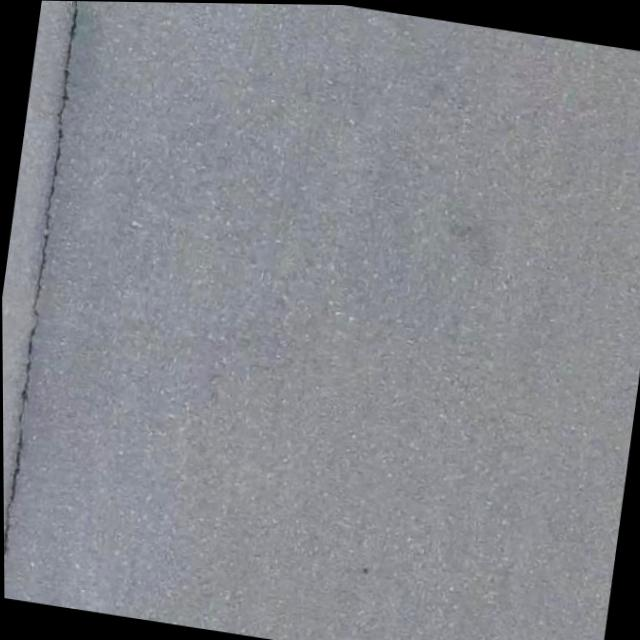Crack: (0, 0, 114, 602)
